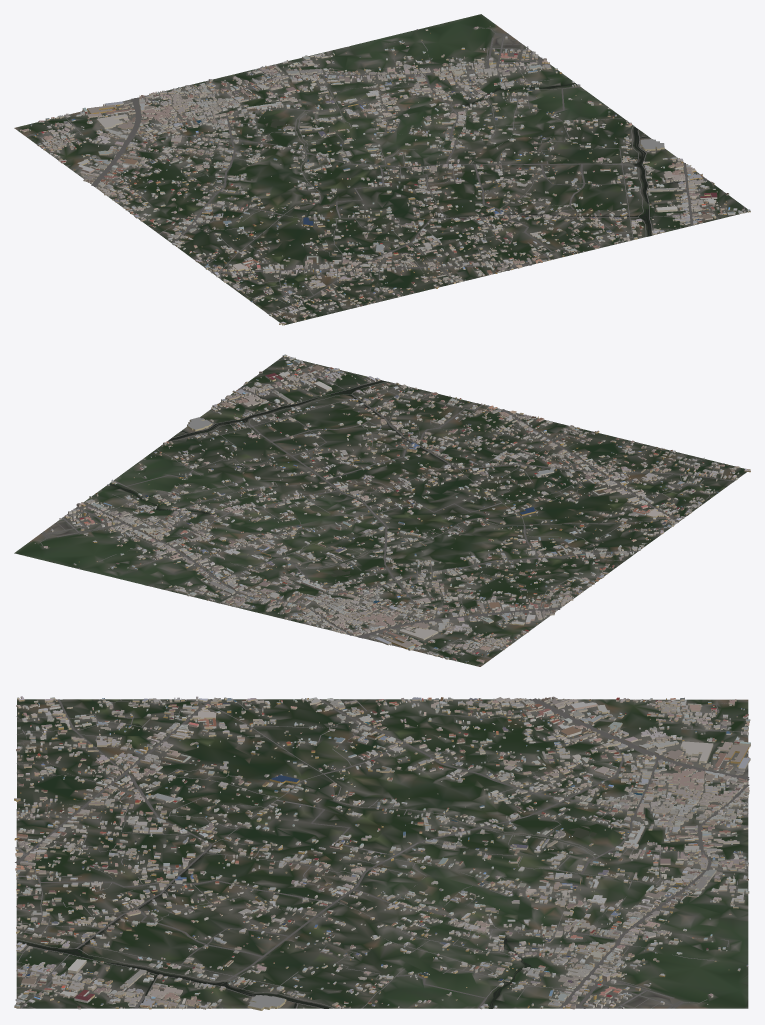
The picture shows the model from 3 angles, top to bottom: view 1: azimuth 30°, elevation 25°; view 2: azimuth 150°, elevation 25°; view 3: azimuth 270°, elevation 25°; orthographic projection. The views are drawn at different scales.
Parts seen in each view (by area): view 1: ground, buildings, roads, water; view 2: ground, buildings, roads, water; view 3: ground, buildings, roads, water.
Boxes of the visible parts, <box> form: ground: <box>14,14,750,325</box>; buildings: <box>20,26,750,325</box>; roads: <box>27,28,747,318</box>; water: <box>270,83,701,236</box>; ground: <box>14,357,748,666</box>; buildings: <box>34,354,750,663</box>; roads: <box>40,357,734,658</box>; water: <box>110,380,453,576</box>; ground: <box>16,699,748,1008</box>; buildings: <box>14,696,750,1010</box>; roads: <box>15,698,749,1008</box>; water: <box>17,827,596,1008</box>.
Bounding box in the file's own units: 2837 × 24.07 × 2822.
